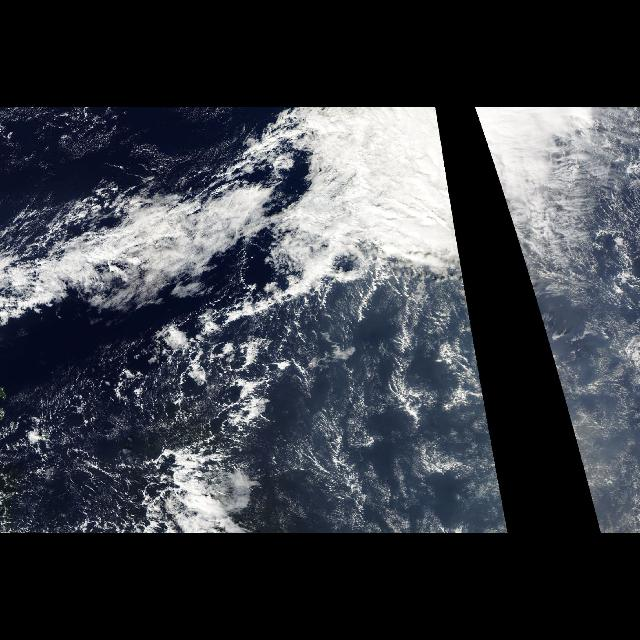Fish: (342, 282, 442, 516)
Gravel: (9, 281, 501, 533)
Sugar: (314, 321, 508, 533), (541, 321, 639, 533)
